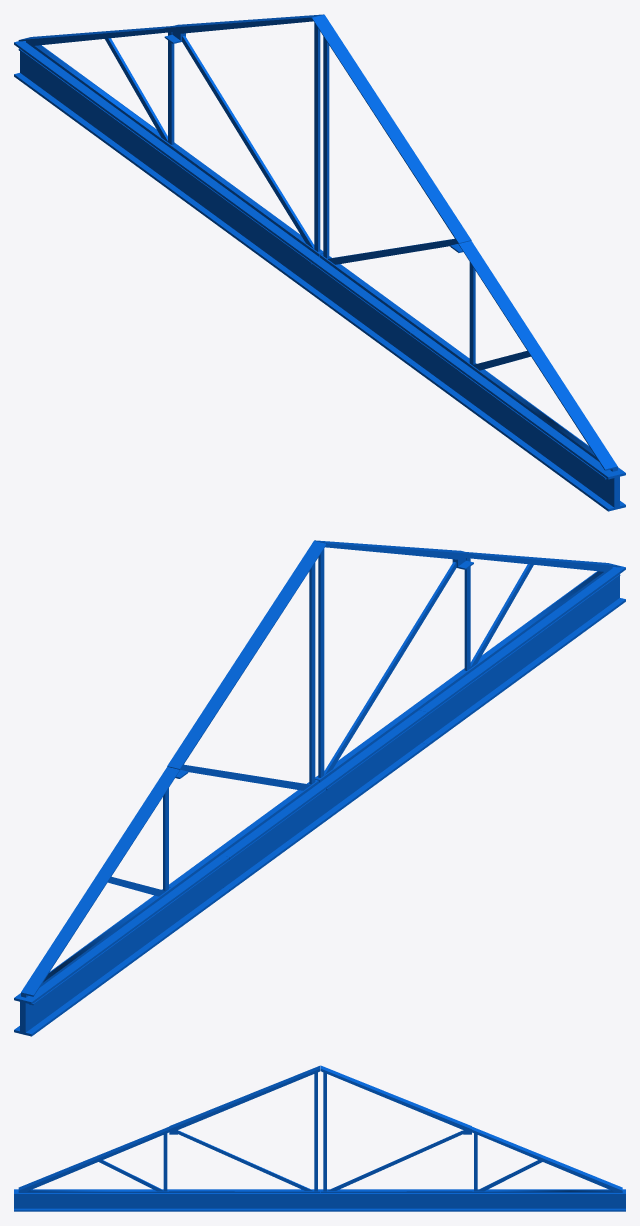
The model's file is Warehouse_03_Metal_01.fbx.
3 renders of one model, top to bottom at view 1: azimuth 30°, elevation 25°; view 2: azimuth 150°, elevation 25°; view 3: azimuth 270°, elevation 25°, orthographic. The views are drawn at different scales.
Visible parts, largest first — view 1: Warehouse_03_Metal_01; view 2: Warehouse_03_Metal_01; view 3: Warehouse_03_Metal_01.
Part boxes in pixels (x1=…): Warehouse_03_Metal_01: x1=14, y1=14, x2=625, y2=511; Warehouse_03_Metal_01: x1=14, y1=540, x2=625, y2=1036; Warehouse_03_Metal_01: x1=14, y1=1065, x2=625, y2=1211.
Bounding box in the file's own units: 28.01 × 416 × 1624.
